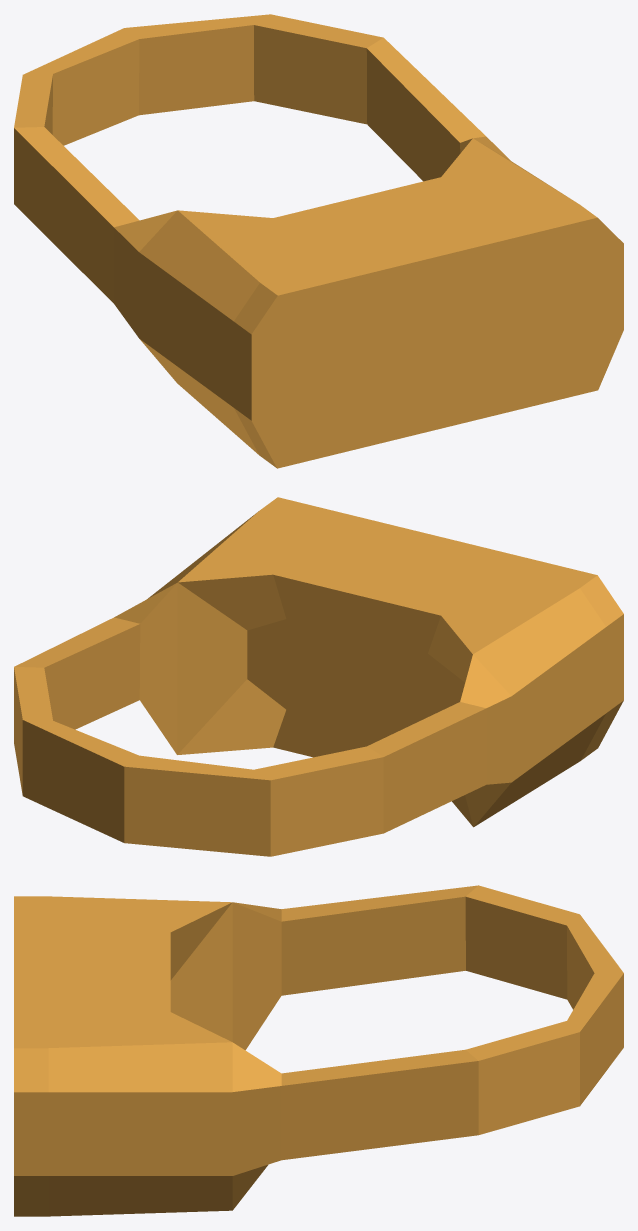
File: vr-headset.fbx
3 views of the same model, one above another, from view 1: azimuth 30°, elevation 25°; view 2: azimuth 150°, elevation 25°; view 3: azimuth 270°, elevation 25° (orthographic). The views are drawn at different scales.
Visible parts, largest first — view 1: vr-headset; view 2: vr-headset; view 3: vr-headset.
Part boxes in pixels (x1,y1,x2,y2): vr-headset: (14,14,623,468); vr-headset: (14,497,623,856); vr-headset: (14,885,623,1216).
Bounding box in the file's own units: 0.2118 × 0.094 × 0.3089.
